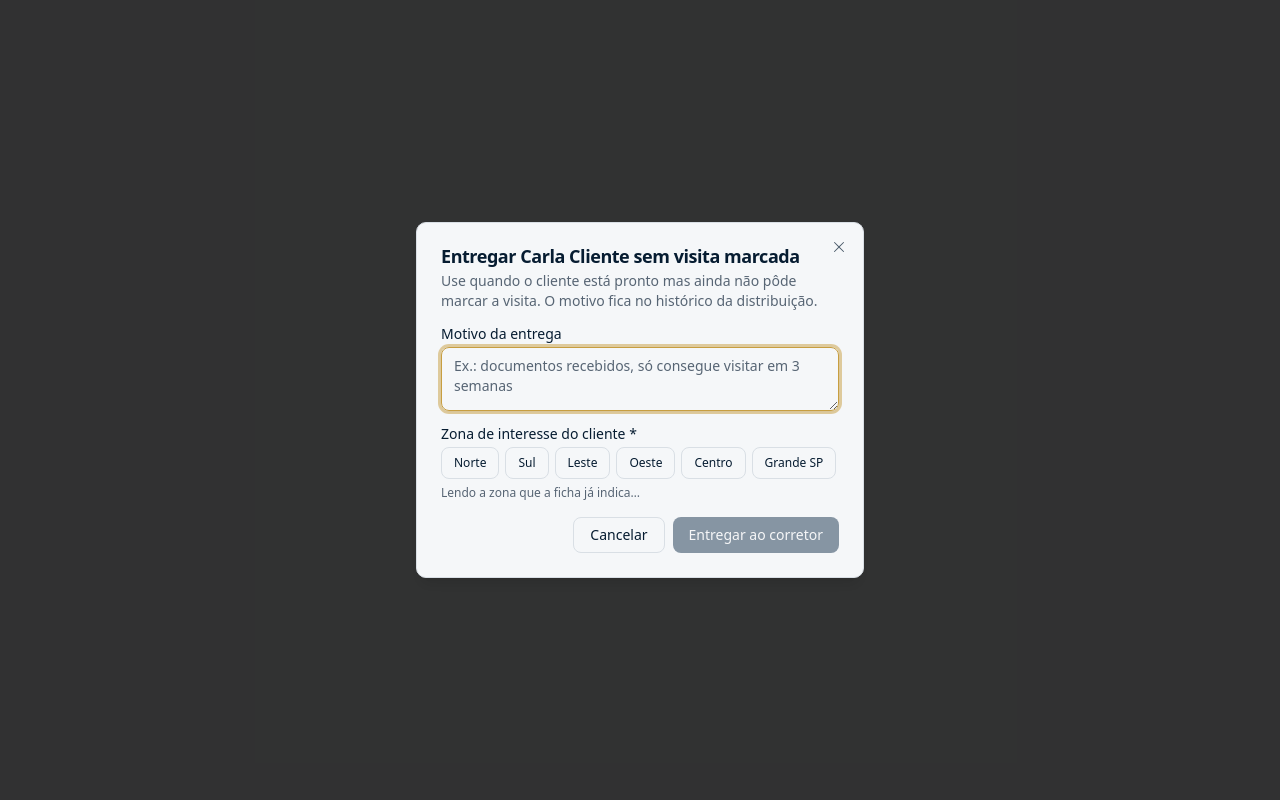
Test: EntregarLeadSdrDialog › sem zona o botão trava; a zona escolhida vai na RPC
This screenshot has width=1280, height=800.
Later steps or results of the test are not shown.
Type "Documentos recebidos, visita em 3 semanas" into the text box labelled "Motivo da entrega". click: (640, 379)
box: [441, 347, 839, 411]
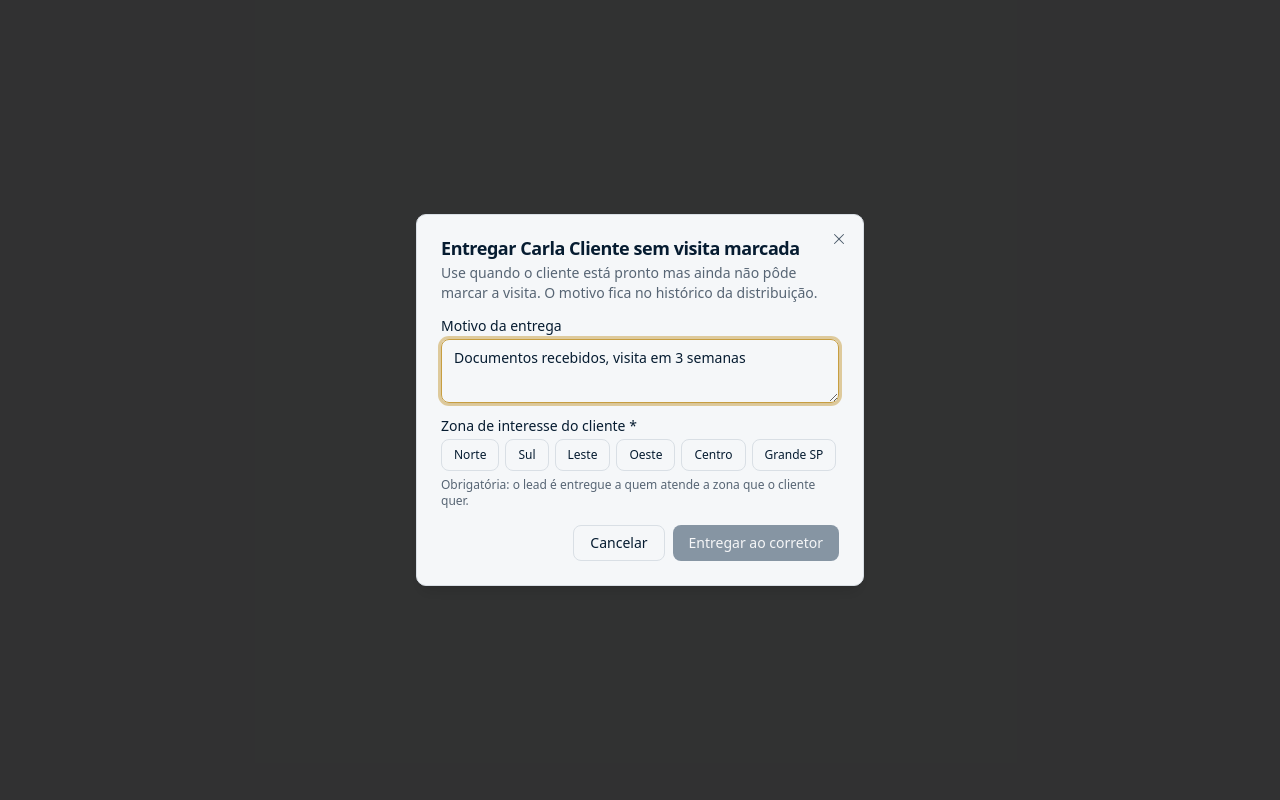
Check: the button "Entregar ao corretor" is disabled, box [673, 525, 839, 561]
Check: the text with test id "zona-interesse-dica" shows "Obrigatória", box [441, 476, 815, 509]
Click the radio button labelled "Grande SP". click: (794, 455)
box: [752, 439, 836, 471]
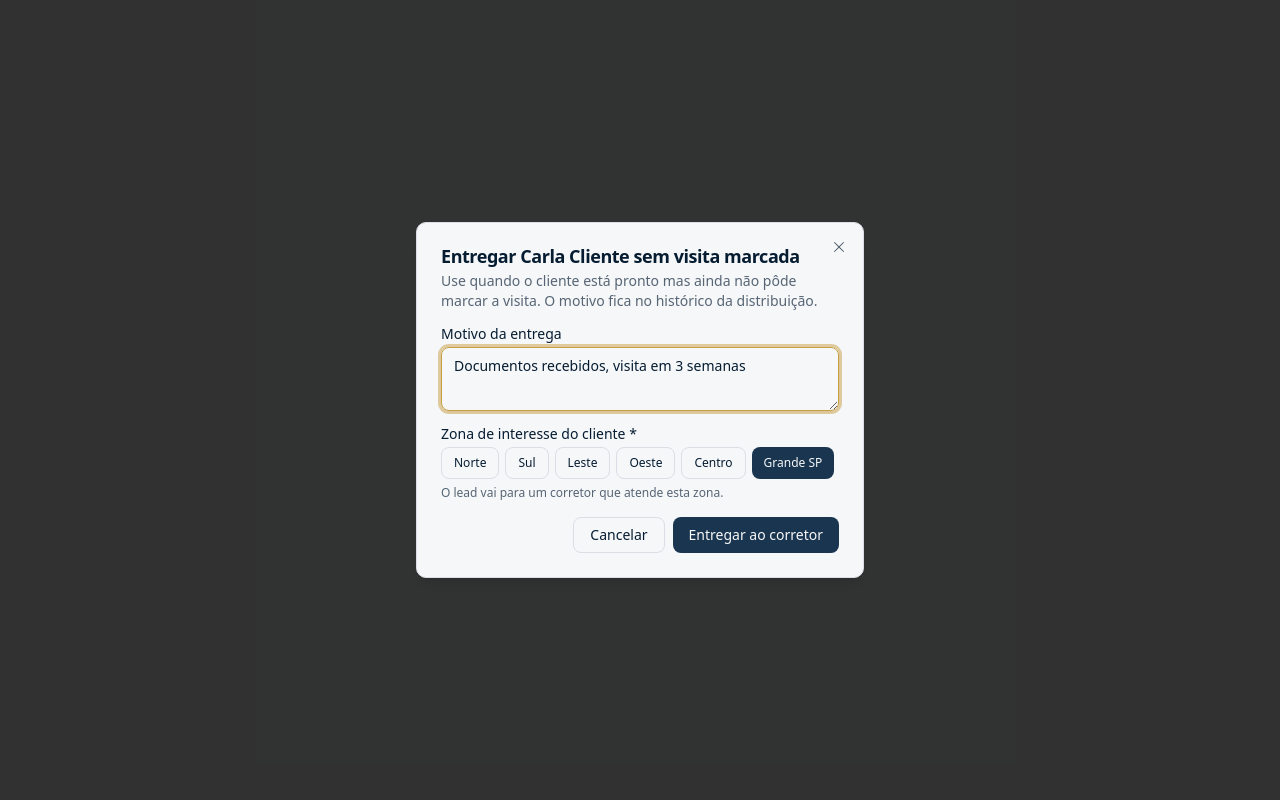
Check: the button "Entregar ao corretor" is enabled, box [673, 517, 839, 553]
